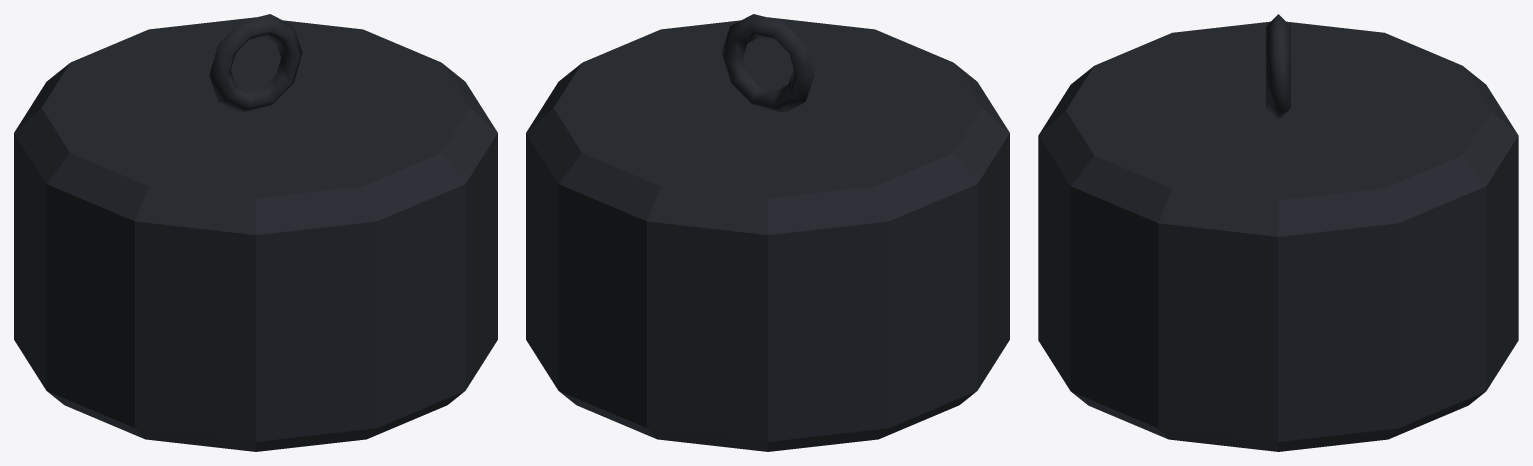
Rendered from party_balloon_weight.glb.
3 views of the same model, side by side, from view 1: azimuth 30°, elevation 25°; view 2: azimuth 150°, elevation 25°; view 3: azimuth 270°, elevation 25° (orthographic).
Parts seen in each view (by area): view 1: party_balloon_weight_body; view 2: party_balloon_weight_body; view 3: party_balloon_weight_body.
Part boxes in pixels (x1,y1,x2,y2): party_balloon_weight_body: (14, 14, 497, 451); party_balloon_weight_body: (526, 14, 1009, 451); party_balloon_weight_body: (1038, 14, 1518, 451).
Bounding box in the file's own units: 0.07 × 0.0544 × 0.07.
Materials: 1 (1 with a texture image).
